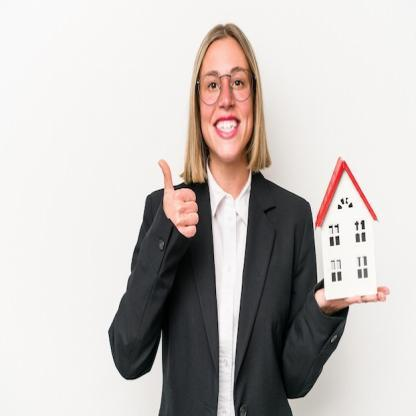thumb_up: (149, 150, 201, 247)
